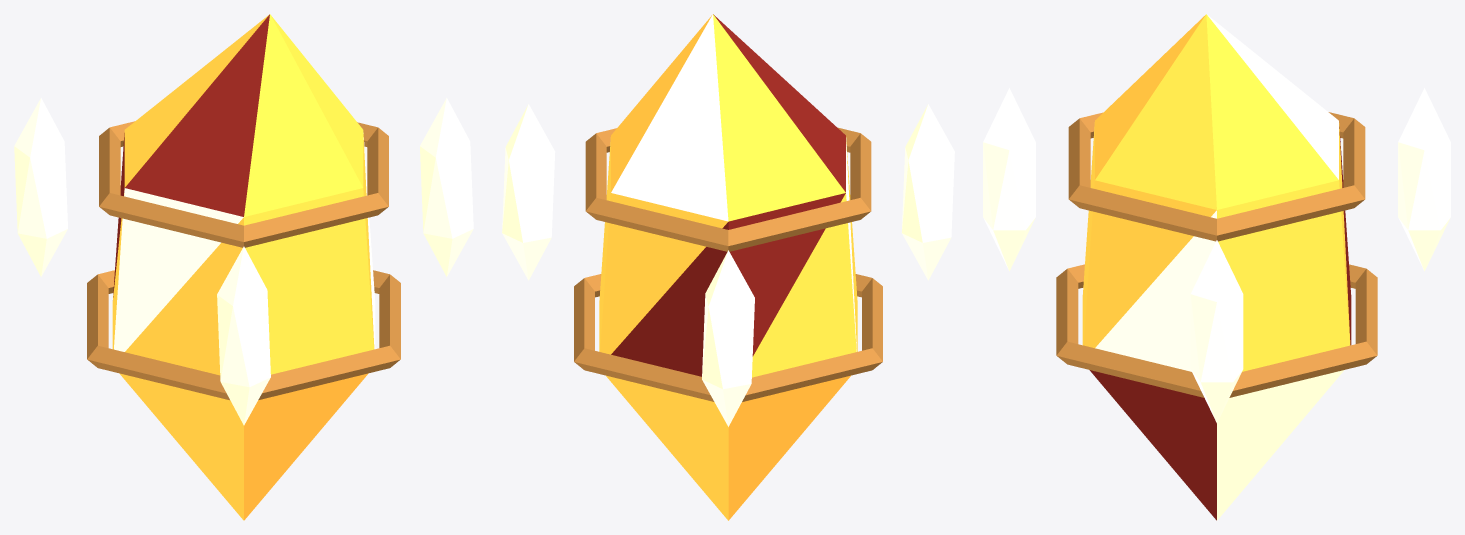
File: heal_orb.glb
The picture shows the model from 3 angles, left to right: view 1: azimuth 30°, elevation 25°; view 2: azimuth 150°, elevation 25°; view 3: azimuth 270°, elevation 25°; orthographic projection. The views are drawn at different scales.
Visible parts, largest first — view 1: HealCrystal, Brass_Crystal_Collar.001, Brass_Crystal_Collar, Heal_Satellite_3, Heal_Satellite_1, Heal_Satellite_2; view 2: HealCrystal, Brass_Crystal_Collar.001, Brass_Crystal_Collar, Heal_Satellite_1, Heal_Satellite_3, Heal_Satellite_2; view 3: HealCrystal, Brass_Crystal_Collar.001, Brass_Crystal_Collar, Heal_Satellite_1, Heal_Satellite_2, Heal_Satellite_3.
Part boxes in pixels (left/top/right/bottom): HealCrystal: left=112, top=14, right=375, bottom=520; Brass_Crystal_Collar.001: left=99, top=121, right=388, bottom=247; Brass_Crystal_Collar: left=87, top=270, right=400, bottom=400; Heal_Satellite_3: left=217, top=246, right=270, bottom=425; Heal_Satellite_1: left=420, top=98, right=473, bottom=276; Heal_Satellite_2: left=14, top=98, right=67, bottom=276; HealCrystal: left=599, top=14, right=857, bottom=520; Brass_Crystal_Collar.001: left=585, top=127, right=871, bottom=251; Brass_Crystal_Collar: left=574, top=274, right=882, bottom=401; Heal_Satellite_1: left=502, top=104, right=555, bottom=280; Heal_Satellite_3: left=901, top=104, right=954, bottom=280; Heal_Satellite_2: left=702, top=250, right=754, bottom=426; HealCrystal: left=1082, top=14, right=1351, bottom=520; Brass_Crystal_Collar.001: left=1068, top=112, right=1365, bottom=241; Brass_Crystal_Collar: left=1056, top=264, right=1377, bottom=397; Heal_Satellite_1: left=1190, top=240, right=1243, bottom=422; Heal_Satellite_2: left=1398, top=88, right=1450, bottom=271; Heal_Satellite_3: left=983, top=88, right=1035, bottom=271.
Bounding box in the file's own units: 0.6424 × 0.81 × 0.6638.
